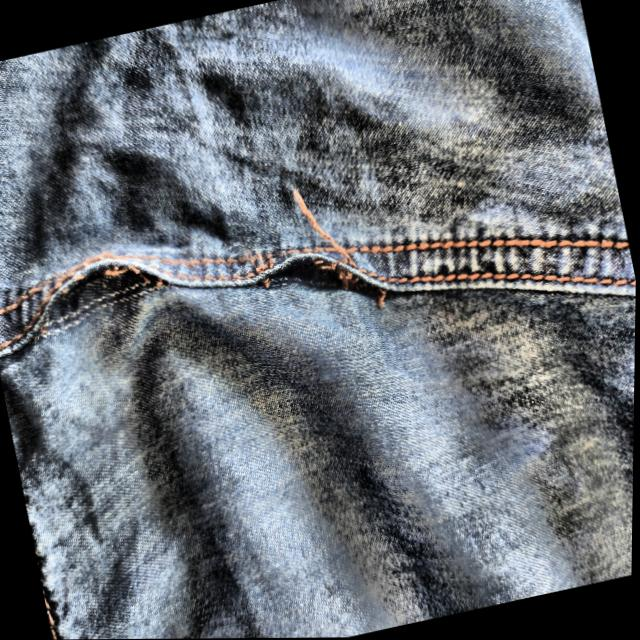seam: (14, 221, 171, 360), (252, 220, 384, 327)
